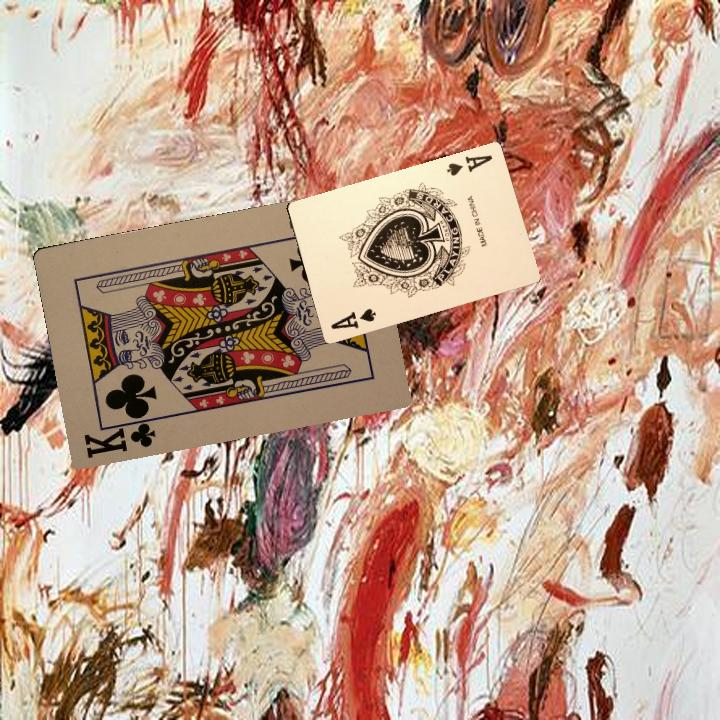As: (327, 304, 378, 332), (443, 151, 495, 178)
Kc: (80, 414, 159, 461)
